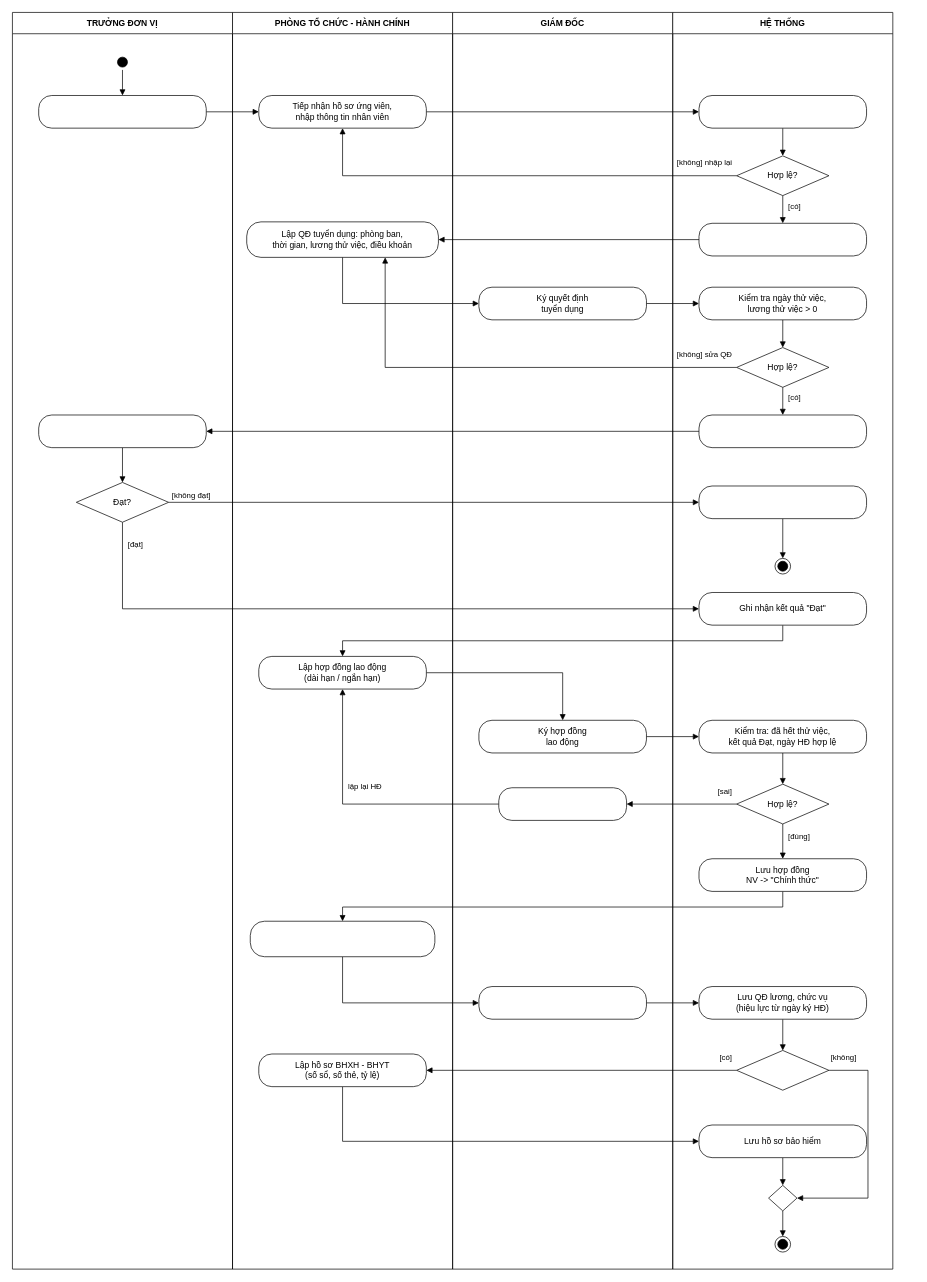
Image size: 927x1282. Some labels were removed from this diagram. The centre of each missing label's shape, as x and y in pixels:
Ghi nhận "Không đạt" NV -> "Nghỉ việc": [782,502]
Gửi nhu cầu tuyển dụng (vị trí, số lượng): [122,111]
HĐ dài hạn?: [782,1070]
Hủy giao dịch (rollback): [562,803]
Kiểm tra CCCD 12 số, tuổi >= 18, trùng mã: [782,111]
Ký QĐ lương, QĐ chức vụ: [562,1002]
Lưu hồ sơ Trạng thái = "Hồ sơ": [782,239]
Lưu QĐ tuyển dụng NV -> "Thử việc": [782,431]
Lập QĐ lương (LCB, phụ cấp) và QĐ chức vụ (PC chức vụ): [342,939]
Theo dõi, đánh giá kết quả thử việc: [122,431]
